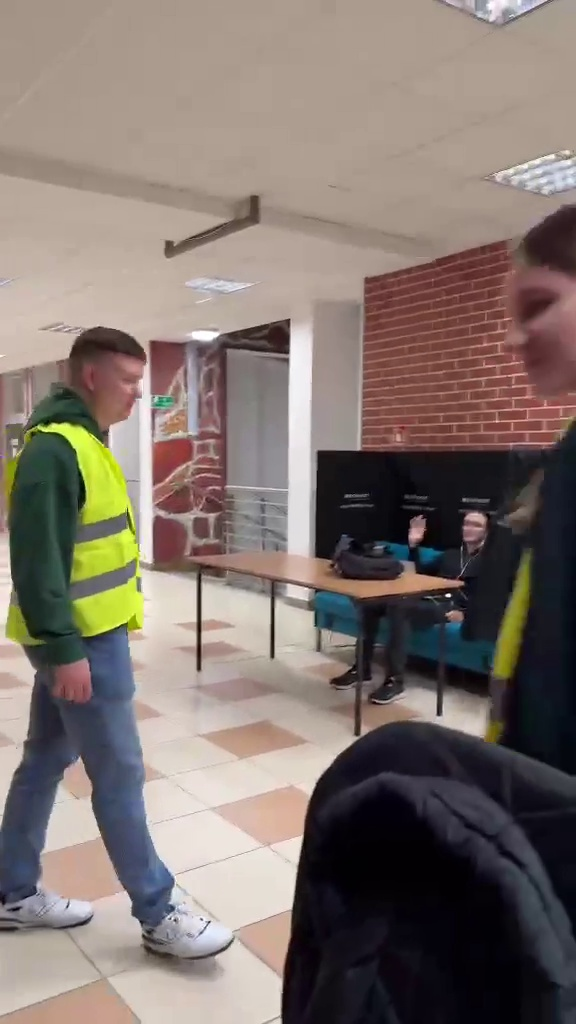no vest: (353, 484, 493, 671)
vest: (2, 328, 239, 969)
